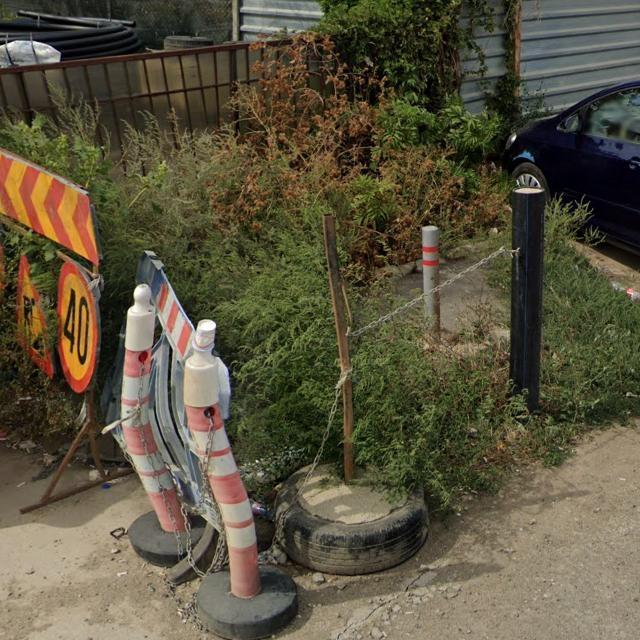forb_speed_over_40: (56, 261, 99, 391)
